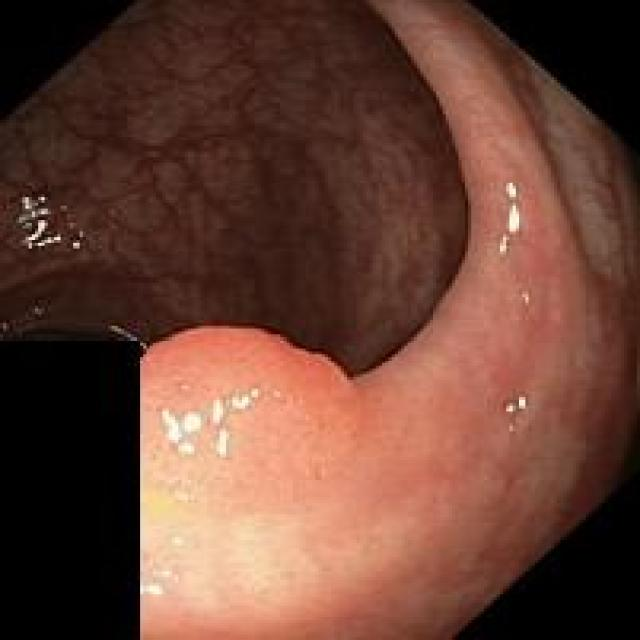Polyps: (145, 328, 357, 510)
